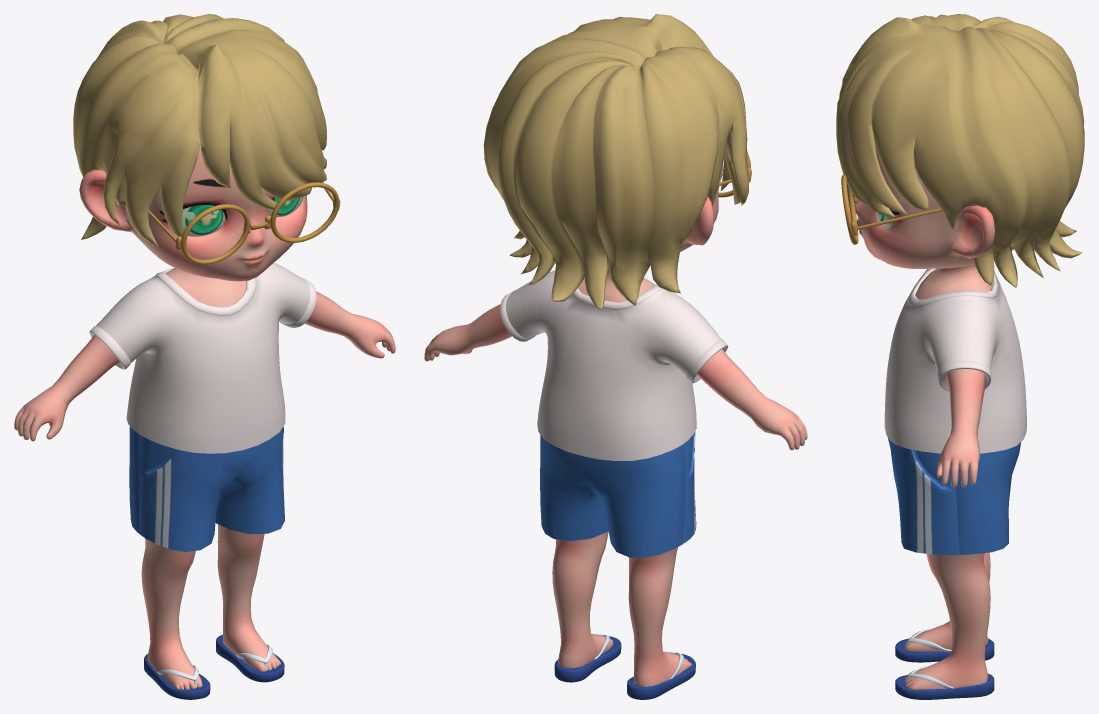
The model's file is m_hair_08.fbx.
3 views of the same model, side by side, from view 1: azimuth 30°, elevation 25°; view 2: azimuth 150°, elevation 25°; view 3: azimuth 270°, elevation 25° (orthographic).
Visible parts, largest first — view 1: m_hair_08, shangbanshen, xiabanshen, head, foot, hand; view 2: m_hair_08, shangbanshen, xiabanshen, foot, hand, head; view 3: m_hair_08, shangbanshen, xiabanshen, head, foot, hand.
Boxes of the visible parts, <box> form: m_hair_08: <box>73,14,340,264</box>; shangbanshen: <box>52,262,355,453</box>; xiabanshen: <box>129,426,284,652</box>; head: <box>79,145,307,281</box>; foot: <box>144,627,284,699</box>; hand: <box>14,313,395,441</box>; m_hair_08: <box>483,14,751,310</box>; shangbanshen: <box>462,270,766,460</box>; xiabanshen: <box>540,431,696,667</box>; foot: <box>554,633,695,699</box>; hand: <box>424,324,807,450</box>; head: <box>680,164,722,251</box>; m_hair_08: <box>836,14,1084,287</box>; shangbanshen: <box>884,264,1026,453</box>; xiabanshen: <box>888,438,1020,667</box>; head: <box>854,140,1013,268</box>; foot: <box>895,622,994,699</box>; hand: <box>936,429,980,487</box>.
Bounding box in the file's own units: 120 × 200 × 69.62.
6 materials, 6 textured.
